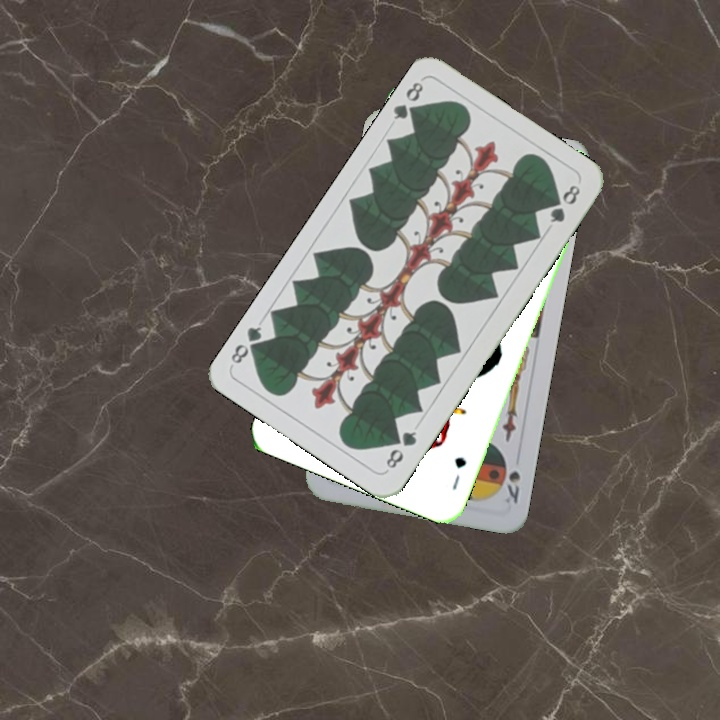G8: (389, 77, 426, 124), (381, 427, 419, 472)
GU: (448, 453, 470, 493)
SK: (501, 466, 523, 506)
